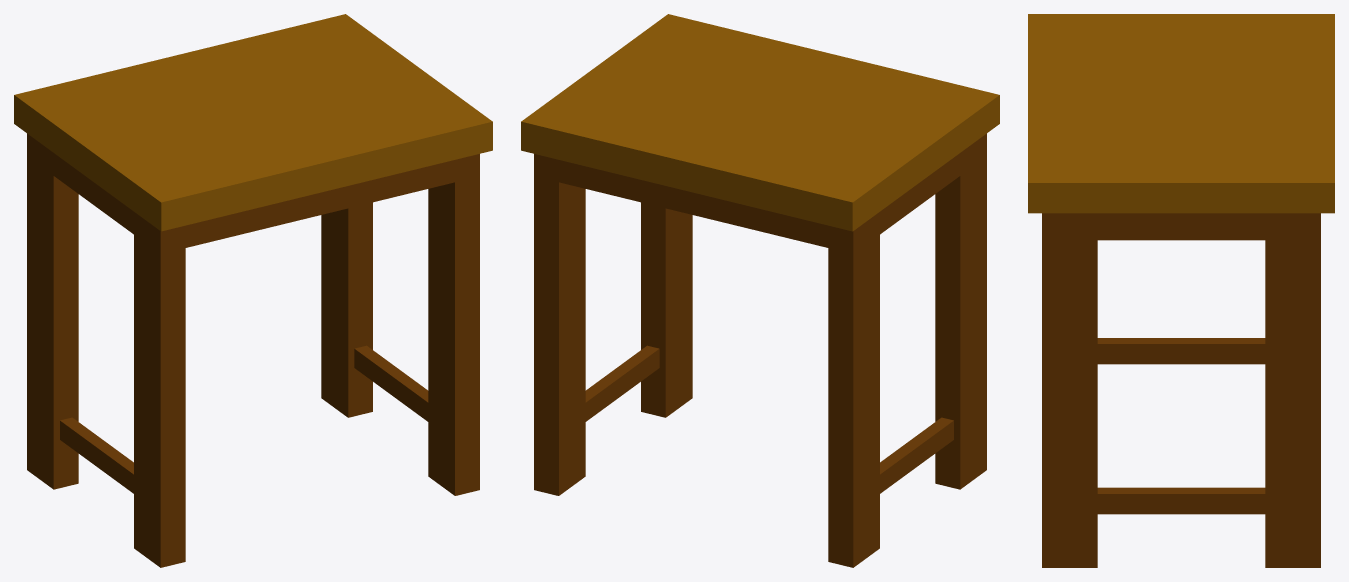
The model's file is side_table.glb.
The picture shows the model from 3 angles, left to right: view 1: azimuth 30°, elevation 25°; view 2: azimuth 150°, elevation 25°; view 3: azimuth 270°, elevation 25°; orthographic projection. The views are drawn at different scales.
Visible parts, largest first — view 1: side_table; view 2: side_table; view 3: side_table.
Boxes of the visible parts, bbox=[...] form: side_table: bbox=[14, 14, 492, 567]; side_table: bbox=[521, 14, 999, 567]; side_table: bbox=[1028, 14, 1334, 567].
Size of the model in its own units: 0.56 by 0.6 by 0.43.
